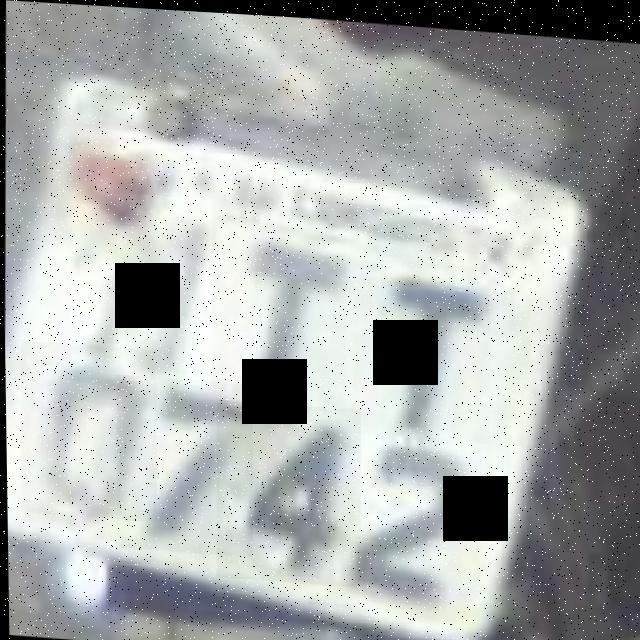0: (16, 340, 157, 520)
2: (304, 421, 496, 613)
4: (212, 396, 362, 585)
7: (112, 373, 253, 554)
J: (69, 188, 214, 384)
T: (209, 212, 347, 412), (349, 253, 490, 437)
